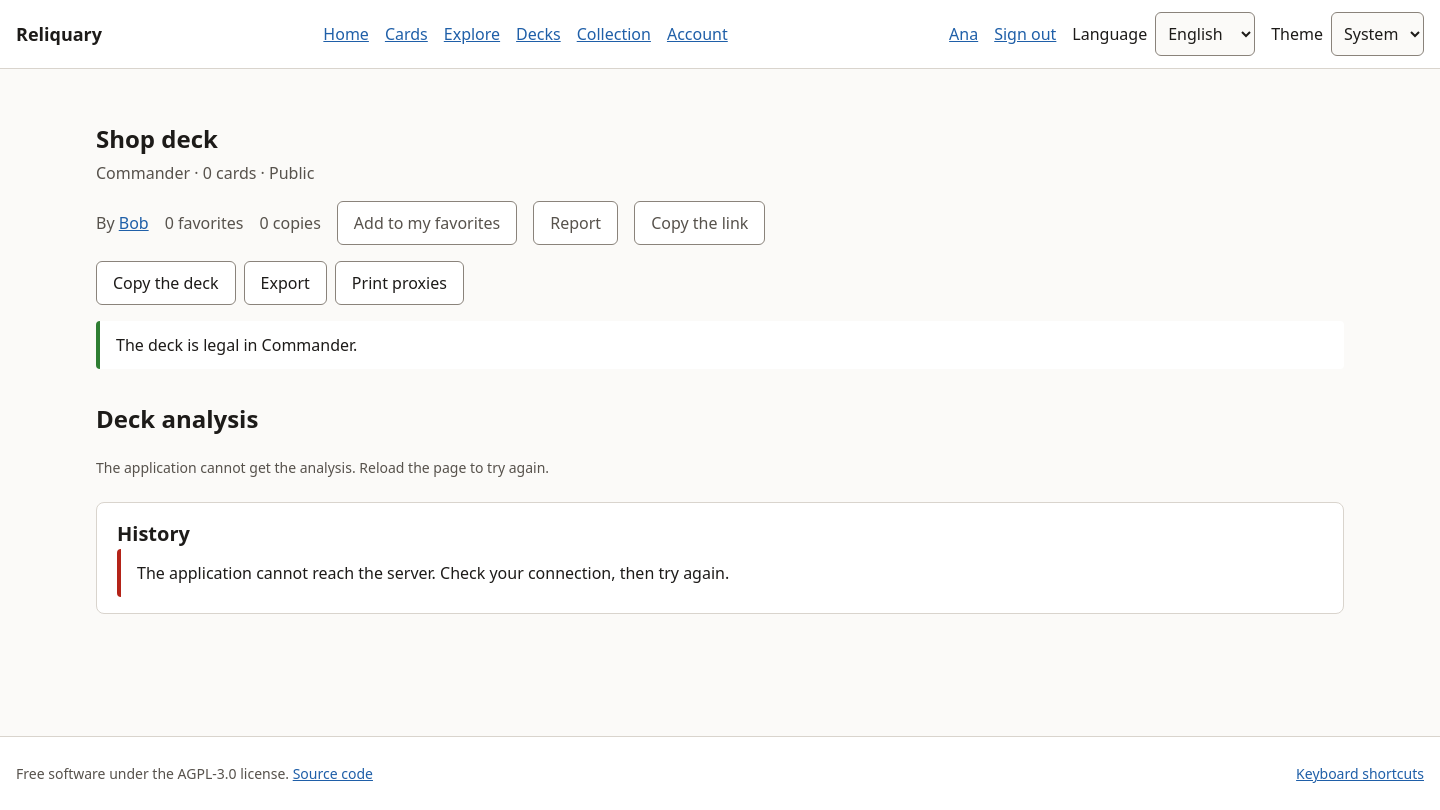
Scenario: deck page moderation › shows the report button on the public deck of another user
This screenshot has width=1440, height=810.
Click the button "Report" at coordinates (576, 223), box [533,201,618,245]
(page scrolled)
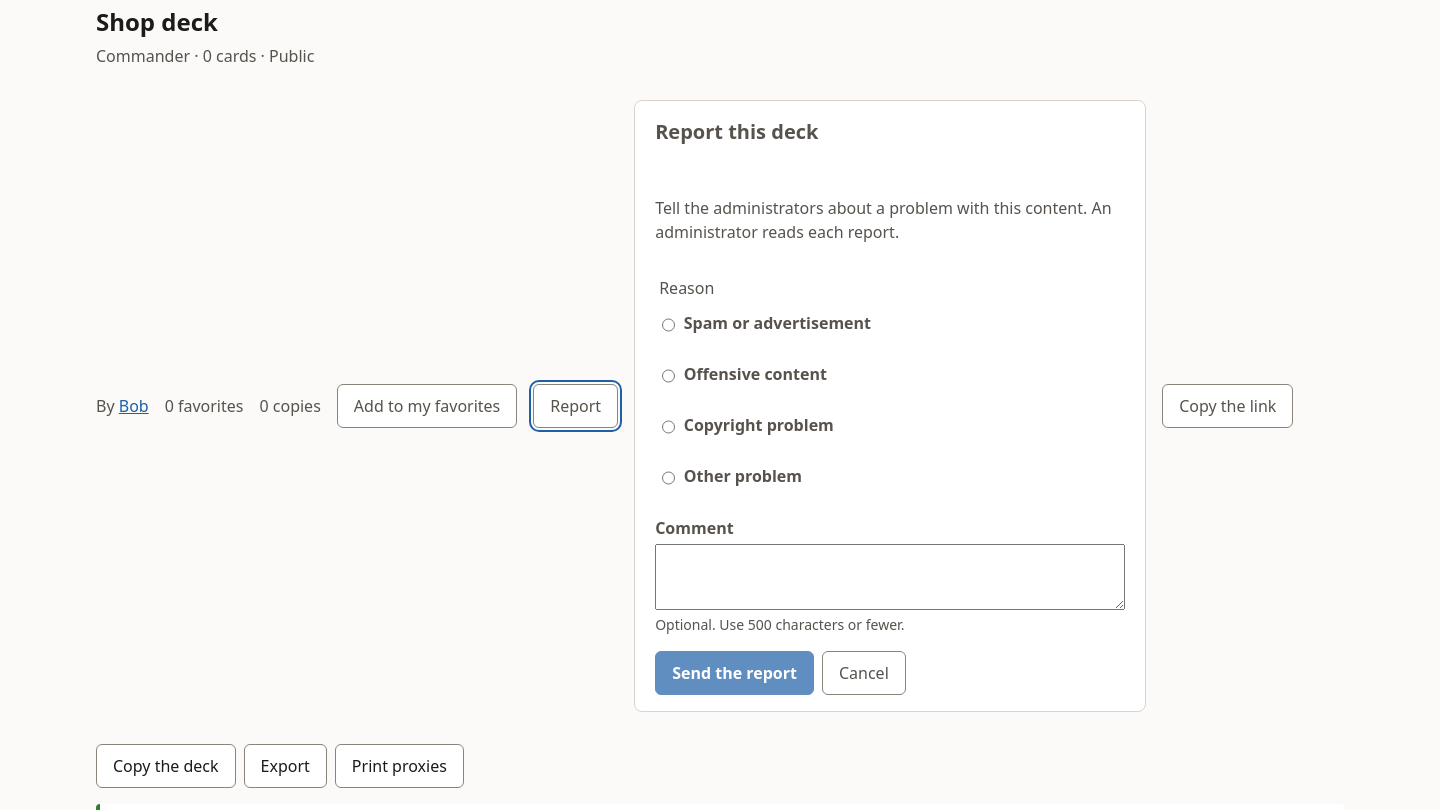
expect the dialog "Report this deck" is shown: met, box [634,100,1146,712]
